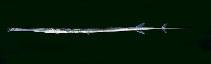Fistularia commersonii: (2, 20, 197, 45)
